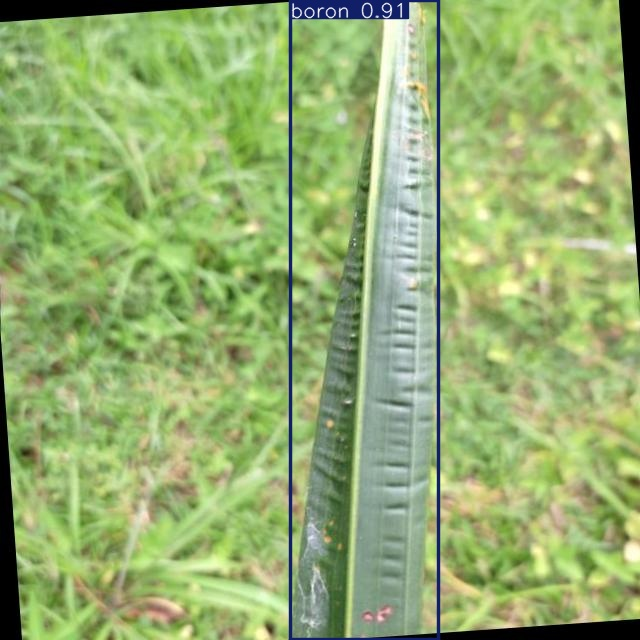nitrogen: (290, 0, 438, 640)
